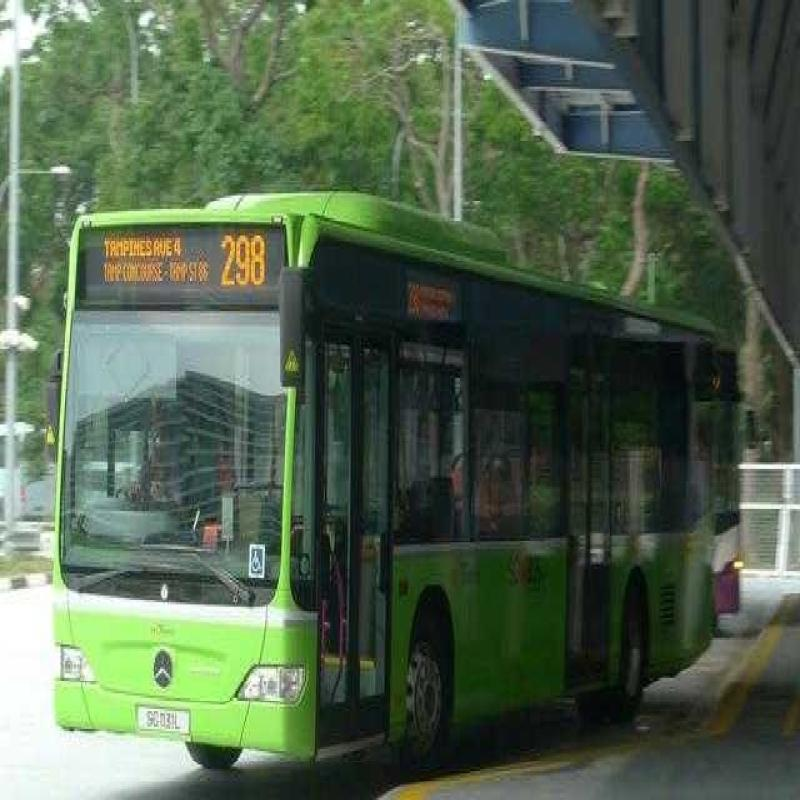bus: (42, 159, 756, 756)
